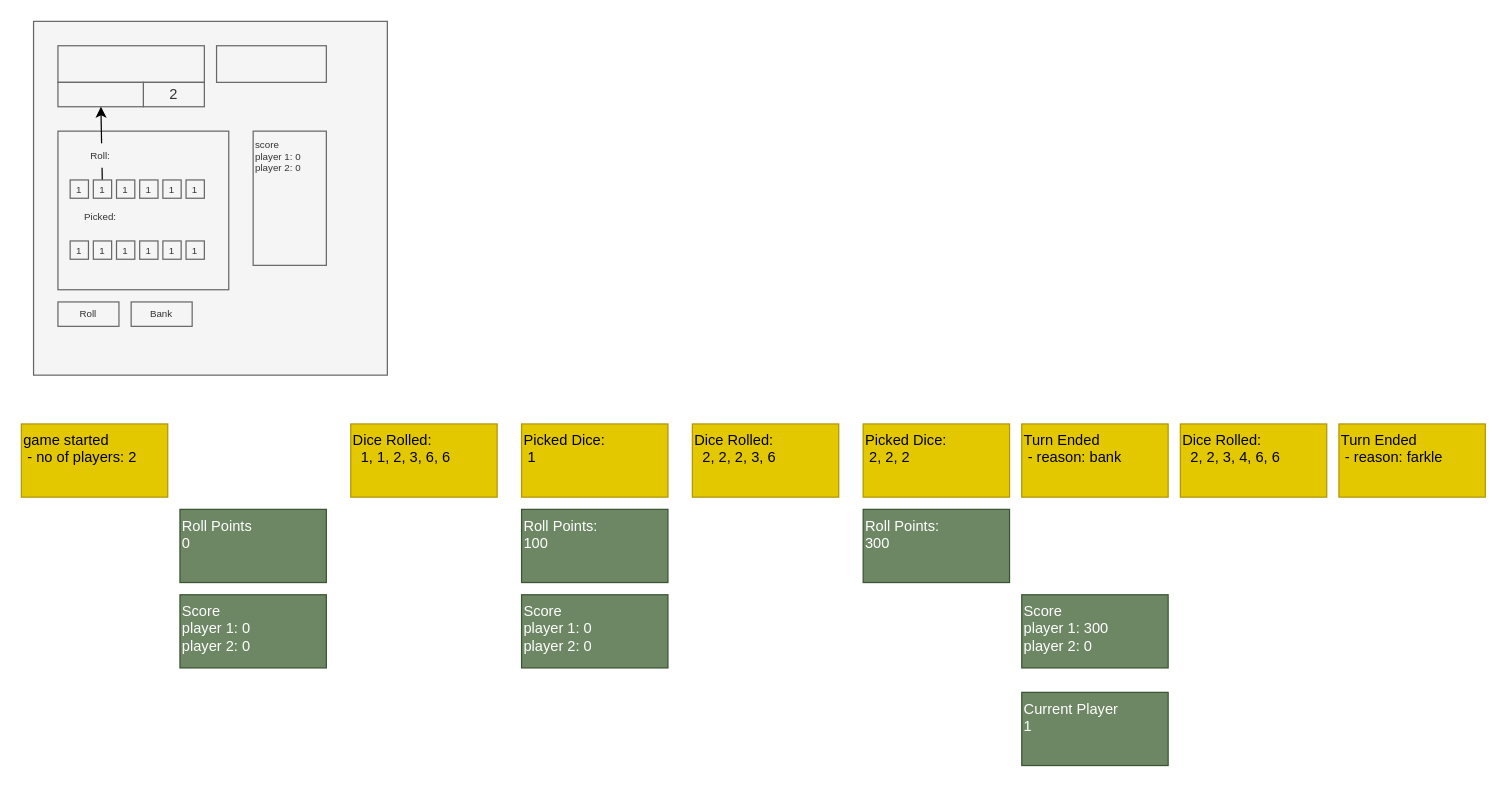
Image size: 1507x787. Some labels were removed from this diagram. The shapes that lost their labels are listed below. From the top down, each one's box as (x1, y1, x2, y2) in pixels, then its label:
(57, 45, 204, 82): start game
(215, 45, 326, 82): reset
(57, 81, 143, 107): no players:
